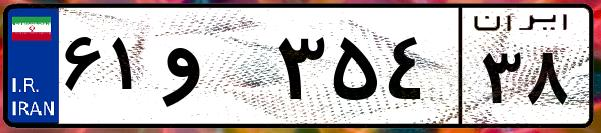1: (110, 28, 158, 98)
3: (270, 28, 330, 110), (475, 38, 525, 113)
4: (385, 28, 445, 110)
5: (330, 28, 385, 110)
6: (57, 26, 110, 100)
8: (525, 38, 570, 115)
و: (158, 20, 270, 120)
